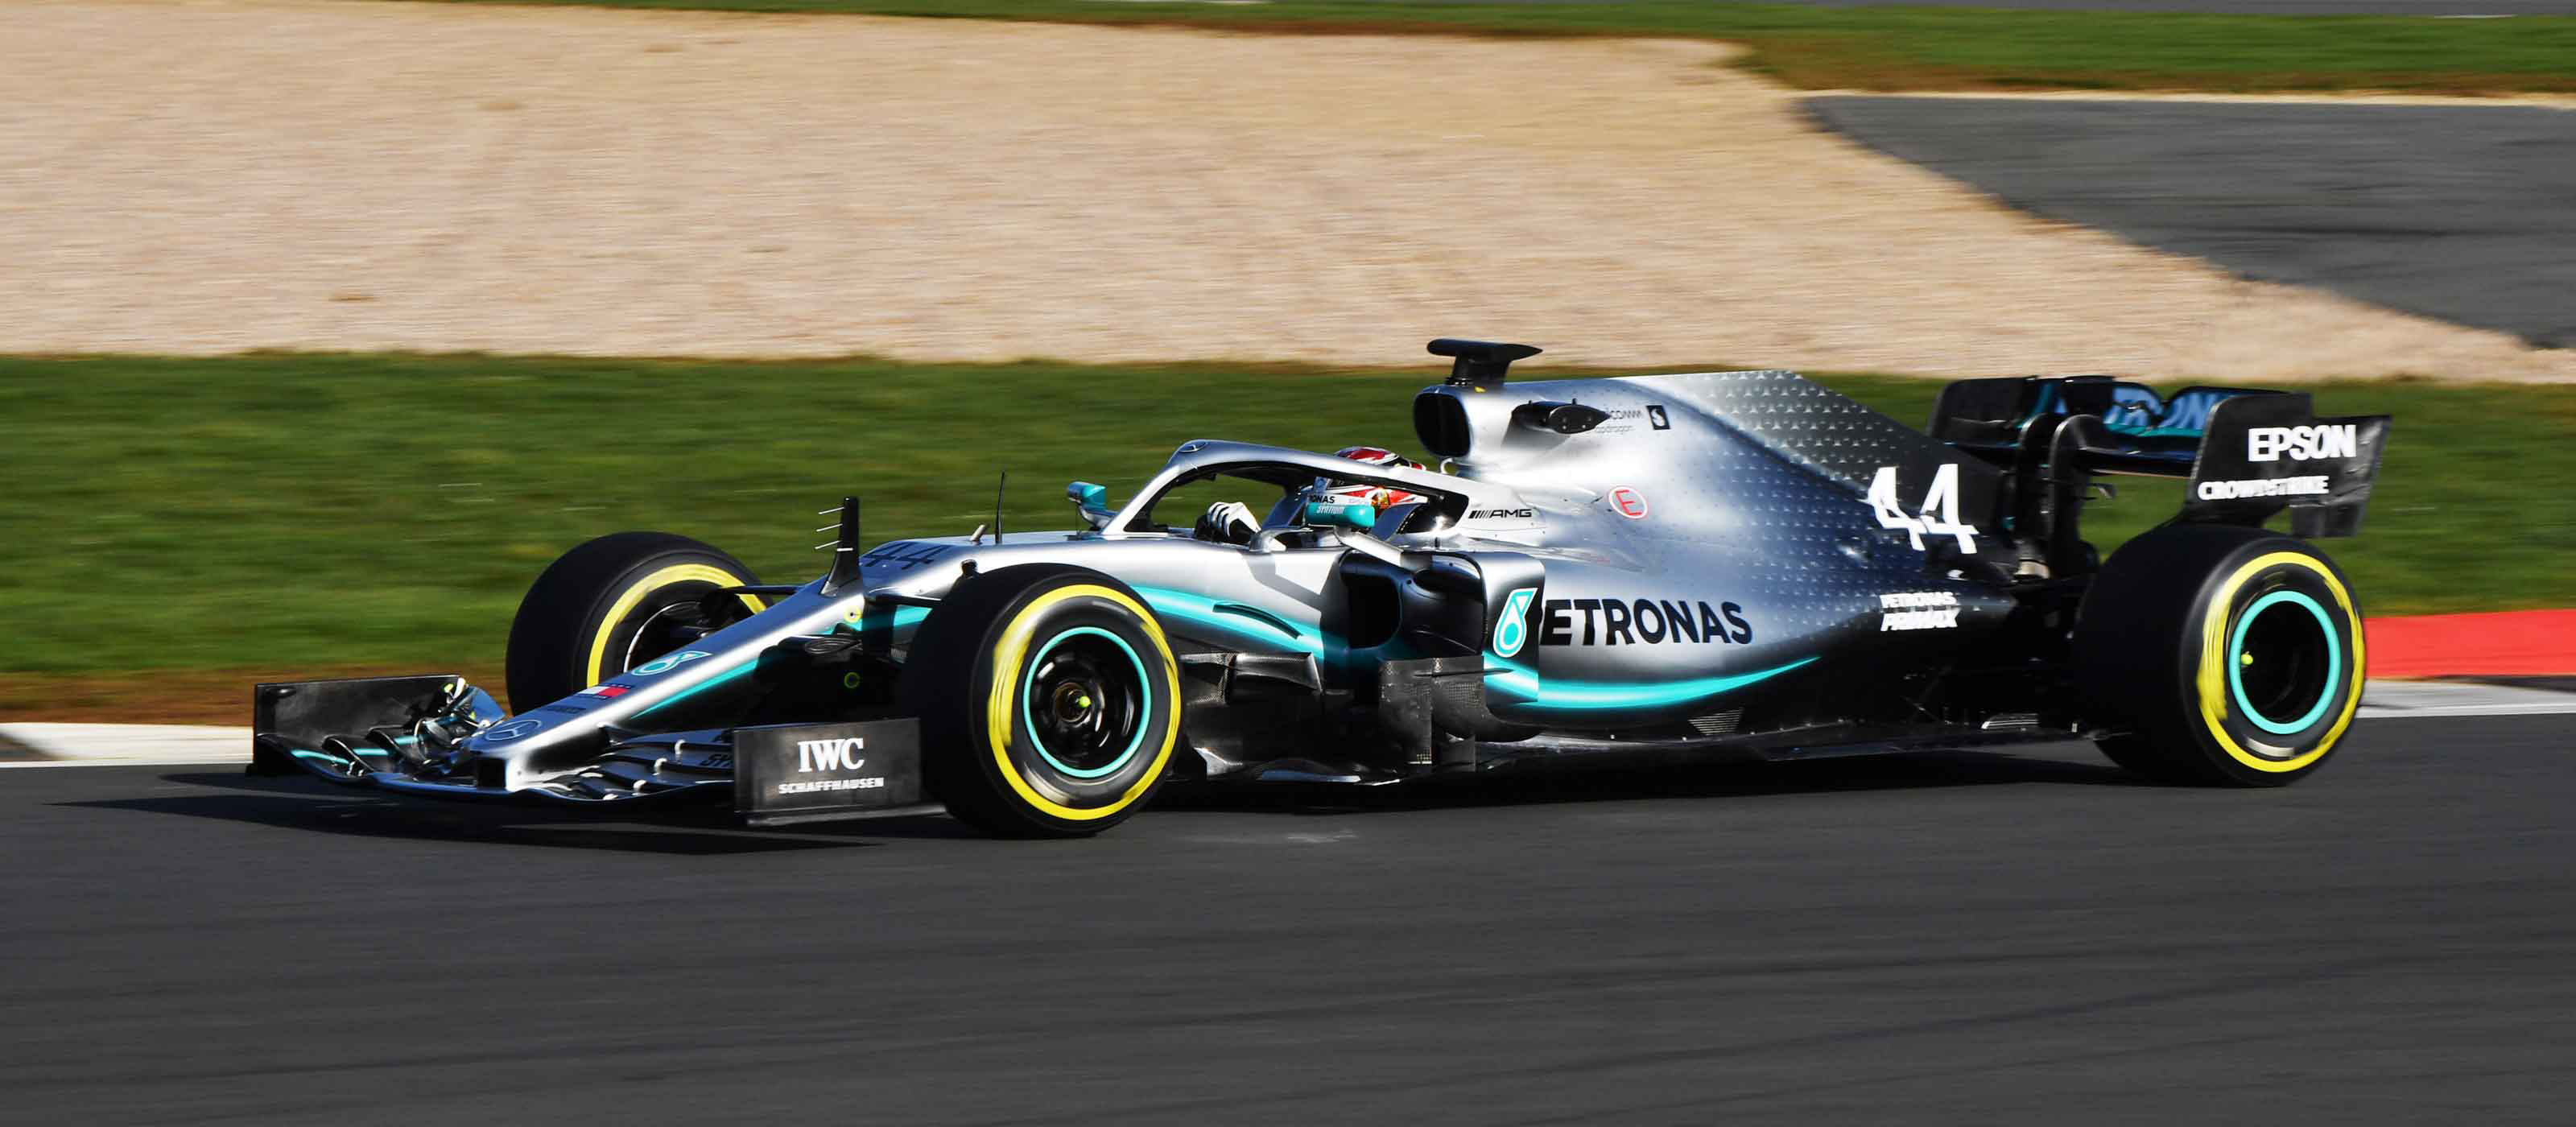F1 Car: (187, 327, 2395, 915)
